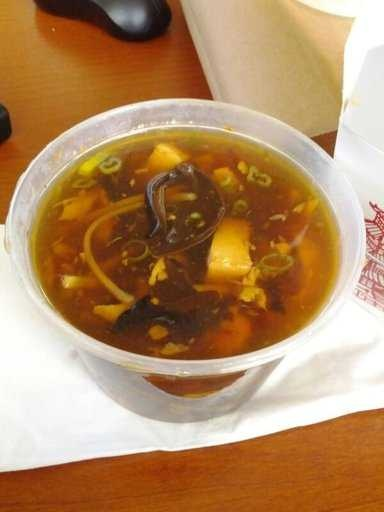soup: (39, 137, 328, 342)
